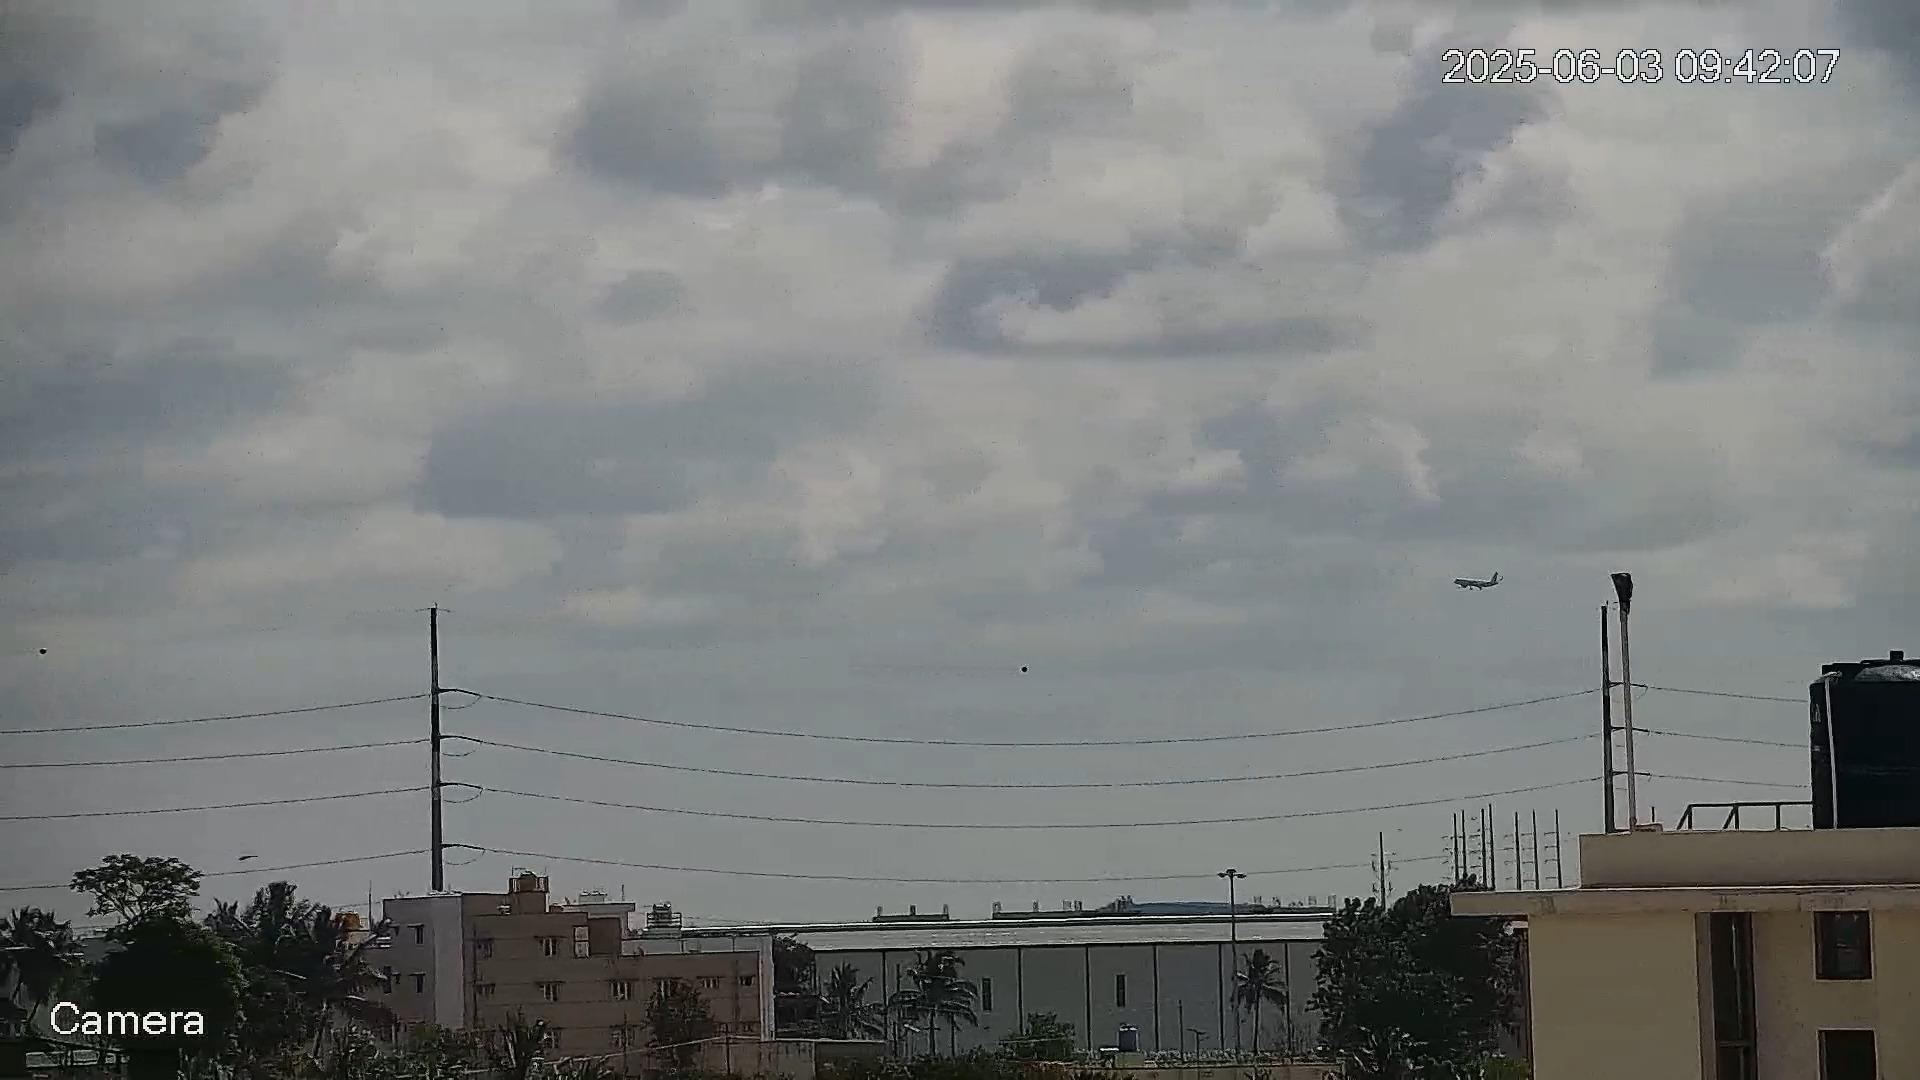Aircraft: (1451, 571, 1499, 592)
